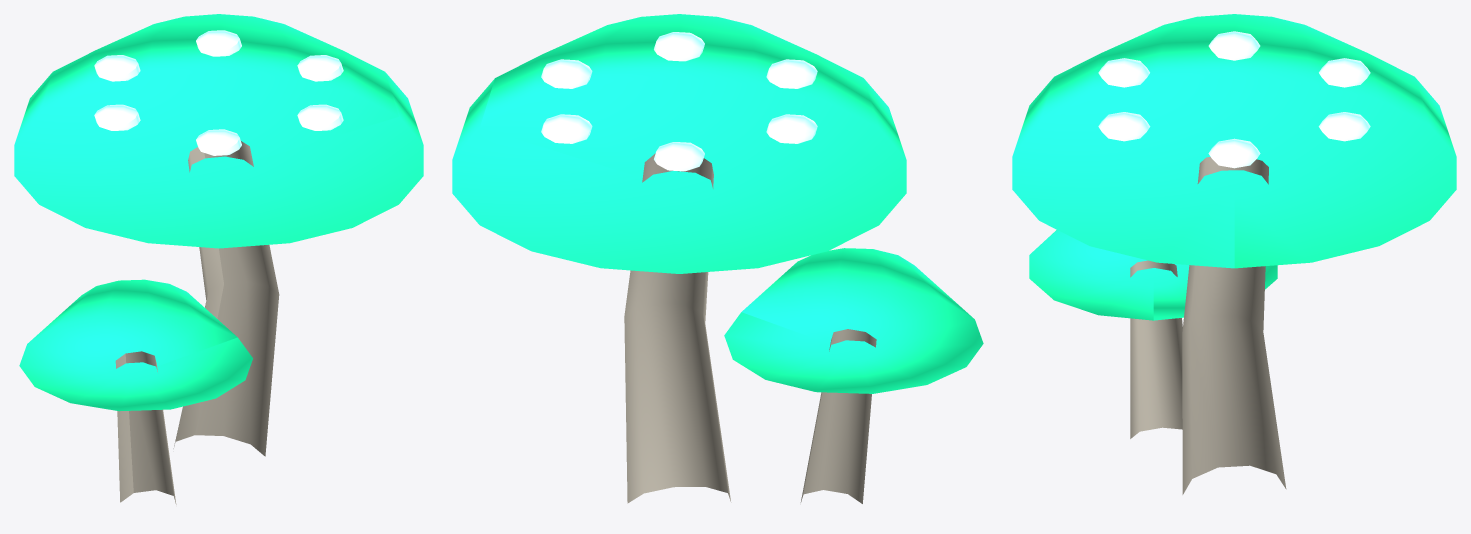
The model's file is mushroom.glb.
The picture shows the model from 3 angles, left to right: view 1: azimuth 30°, elevation 25°; view 2: azimuth 150°, elevation 25°; view 3: azimuth 270°, elevation 25°; orthographic projection. The views are drawn at different scales.
Visible parts, largest first — view 1: GlowingMushroom; view 2: GlowingMushroom; view 3: GlowingMushroom.
Part boxes in pixels (<box>): GlowingMushroom: <box>14,14,423,504</box>; GlowingMushroom: <box>452,14,983,503</box>; GlowingMushroom: <box>1012,14,1456,494</box>.
Size of the model in its own units: 1.74 by 1.76 by 1.54.
